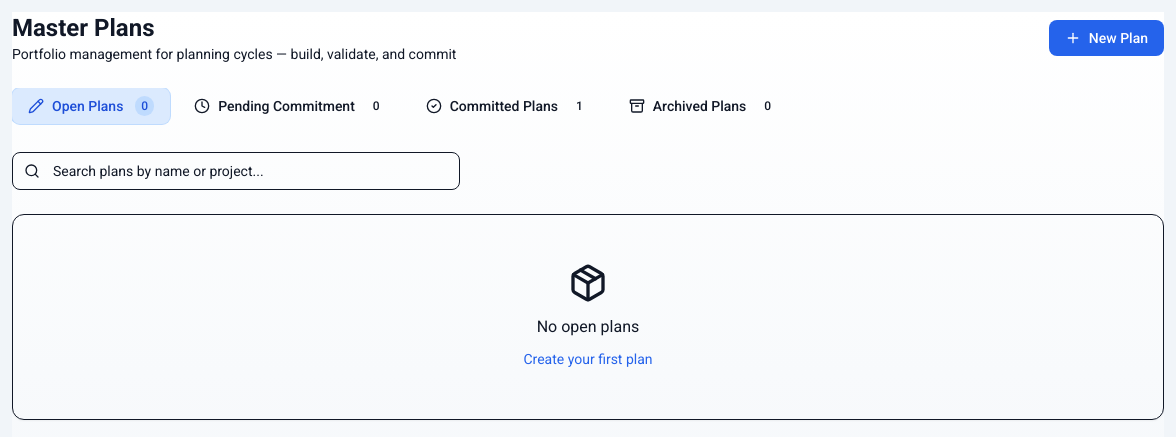
Test: MasterPlansPage › shows plans in committed bucket
Click the button "Committed Plans 1". click: (507, 106)
box: [410,88,605,124]
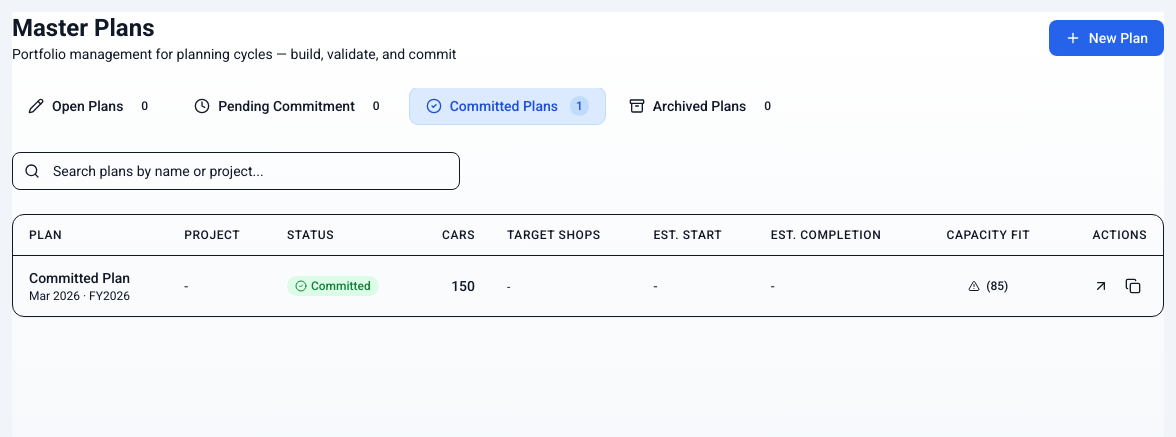
Now the text "Committed Plan" is shown, box [29,270,130,286]
